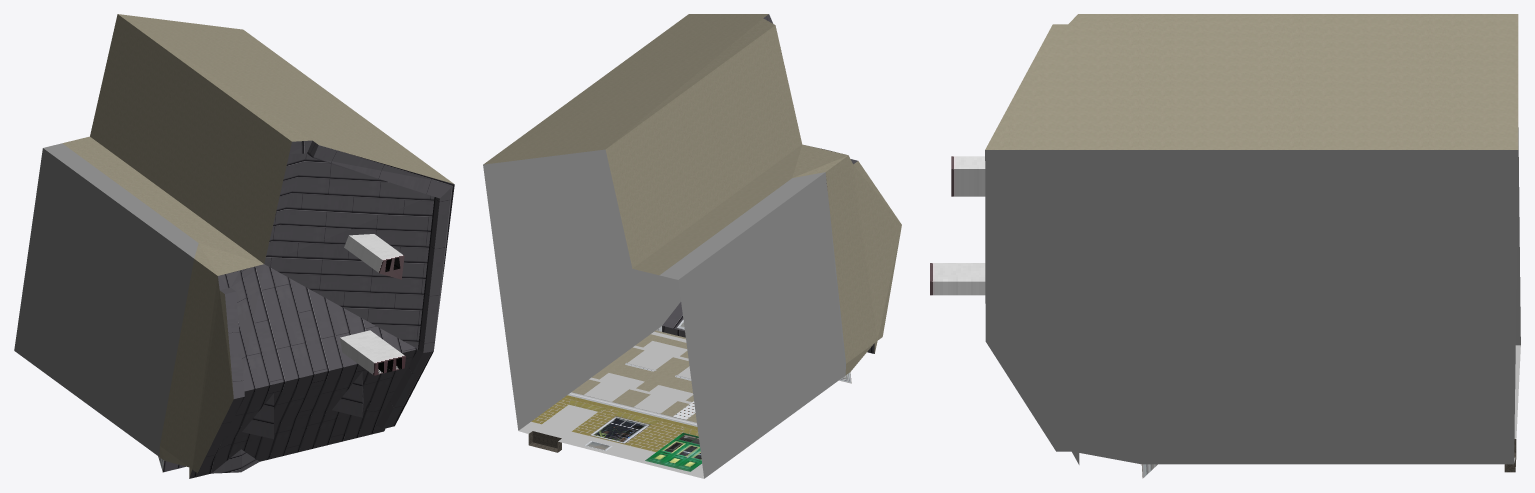
File: Hobusepea_10-origo.obj
3 views of the same model, side by side, from view 1: azimuth 30°, elevation 25°; view 2: azimuth 150°, elevation 25°; view 3: azimuth 270°, elevation 25° (orthographic). The views are drawn at different scales.
Parts seen in each view (by area): view 1: Hobusepea_10; view 2: Hobusepea_10; view 3: Hobusepea_10.
Part boxes in pixels (left/top/right/bottom): Hobusepea_10: left=14, top=14, right=454, bottom=478; Hobusepea_10: left=483, top=14, right=901, bottom=478; Hobusepea_10: left=930, top=14, right=1520, bottom=478.
Bounding box in the file's own units: 10.38 × 14 × 18.34.
